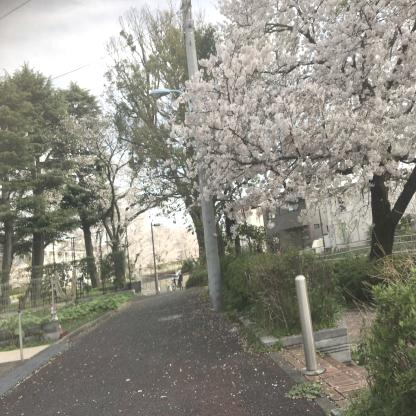Someiyoshino: (169, 1, 416, 248), (42, 107, 160, 240), (123, 212, 199, 266)
